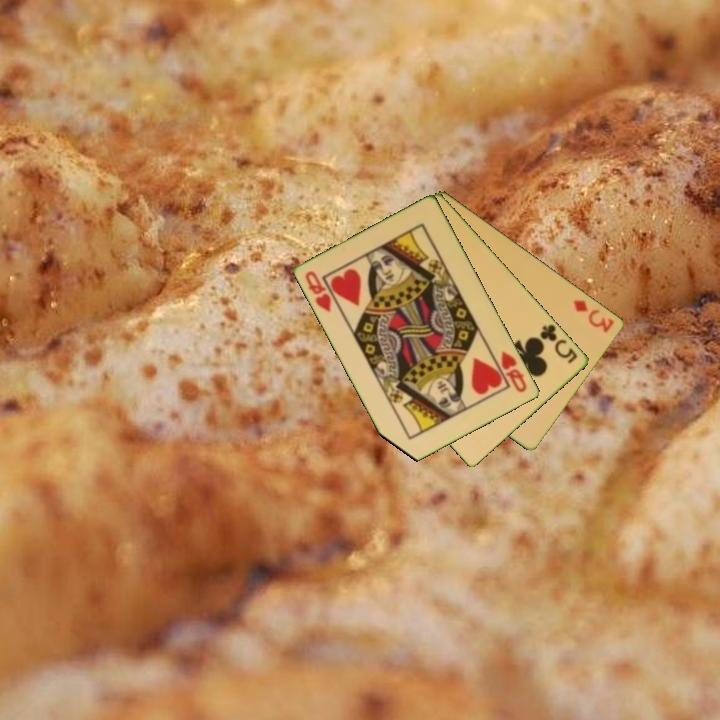3d: (570, 296, 617, 335)
5c: (537, 320, 581, 366)
Qh: (498, 347, 530, 396), (302, 267, 334, 316)
